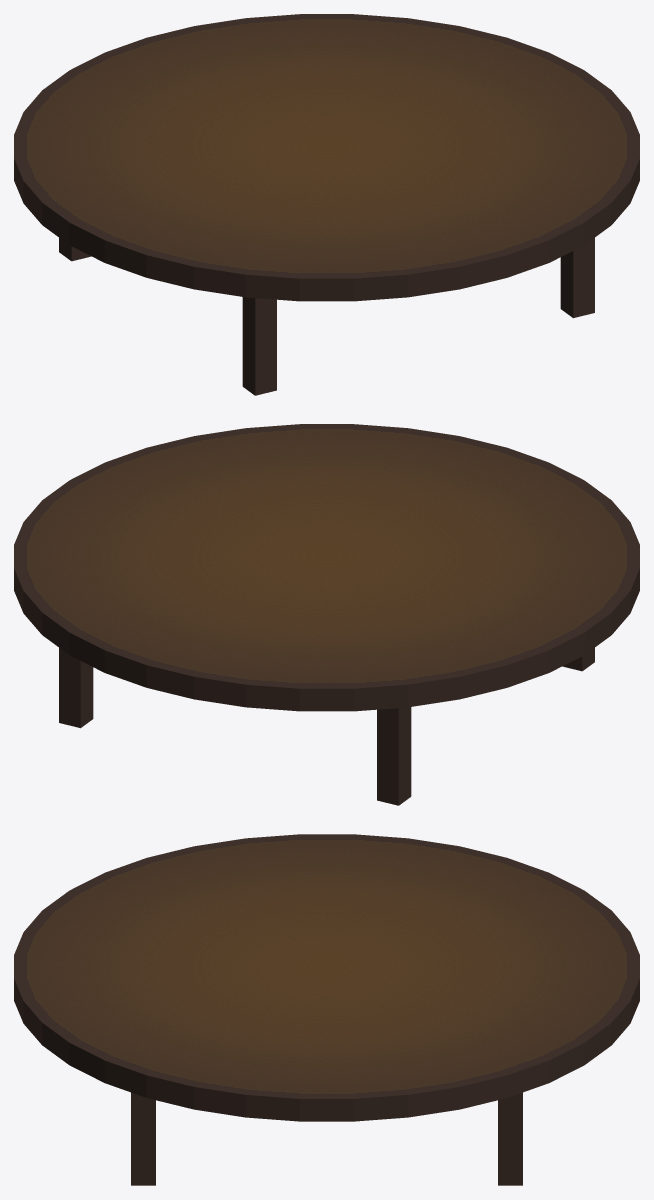
File: Table2.gltf
The picture shows the model from 3 angles, top to bottom: view 1: azimuth 30°, elevation 25°; view 2: azimuth 150°, elevation 25°; view 3: azimuth 270°, elevation 25°; orthographic projection.
Parts seen in each view (by area): view 1: cylinder, cuboid (×2); view 2: cylinder, cuboid (×2); view 3: cylinder, cuboid (×2).
Part boxes in pixels (left/top/right/bottom): cylinder: left=14, top=14, right=639, bottom=301; cuboid (×2): left=242, top=238, right=594, bottom=395; cylinder: left=14, top=424, right=639, bottom=711; cuboid (×2): left=59, top=648, right=411, bottom=805; cylinder: left=14, top=834, right=639, bottom=1121; cuboid (×2): left=131, top=1092, right=522, bottom=1185.
Size of the model in its own units: 9.38 by 2.25 by 9.38.
Materials: 1 (1 with a texture image).
